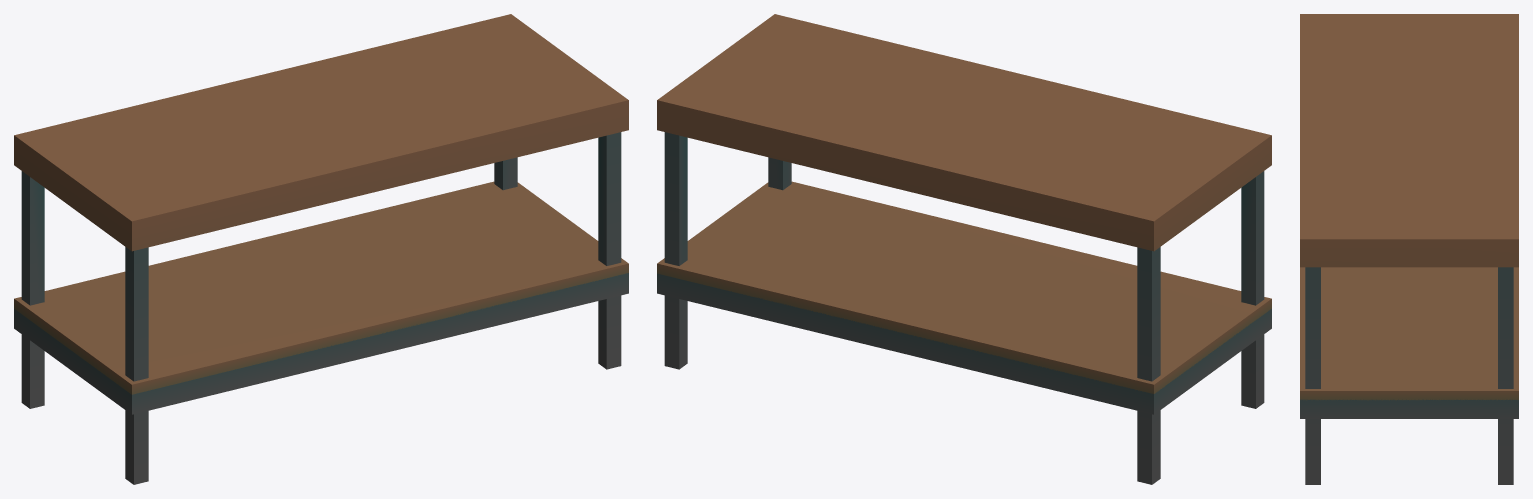
3 renders of one model, left to right at view 1: azimuth 30°, elevation 25°; view 2: azimuth 150°, elevation 25°; view 3: azimuth 270°, elevation 25°, orthographic. The views are drawn at different scales.
Visible parts, largest first — view 1: top, lower_shelf, rails, post.003, post.001, post.002, post; view 2: top, lower_shelf, rails, post.002, post, post.003, post.001; view 3: top, lower_shelf, rails, post, post.001.
Boxes of the visible parts, x1,y1,x2,y2 form: top: (14,14,628,251); lower_shelf: (14,181,628,394); rails: (14,273,628,414); post.003: (125,247,148,484); post.001: (598,132,621,369); post.002: (21,171,44,408); post: (494,157,517,190); top: (657,14,1271,251); lower_shelf: (657,181,1271,393); rails: (657,273,1271,414); post.002: (1137,247,1160,484); post: (664,132,687,369); post.003: (1241,171,1264,408); post.001: (768,157,791,190); top: (1300,14,1518,267); lower_shelf: (1300,267,1518,400); rails: (1300,399,1518,418); post: (1498,267,1513,484); post.001: (1305,267,1320,484).
Bounding box in the file's own units: 0.78 × 0.4 × 0.32.
